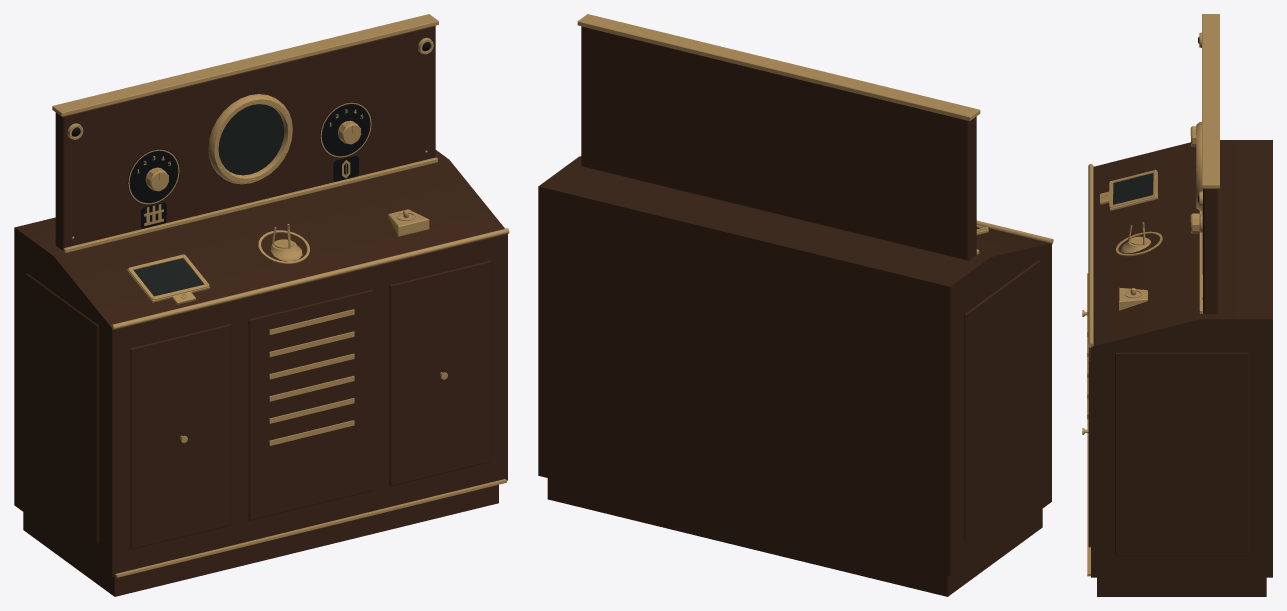
File: gallery_console.glb
3 renders of one model, left to right at view 1: azimuth 30°, elevation 25°; view 2: azimuth 150°, elevation 25°; view 3: azimuth 270°, elevation 25°, orthographic. The views are drawn at different scales.
Parts seen in each view (by area): view 1: gallery_console, scope_screen, IA_strand_plate, IA_cradle; view 2: gallery_console; view 3: gallery_console, IA_strand_plate, IA_cradle, cradle_ring.
Boxes of the visible parts, box(x1,y1,x2,y2) form: gallery_console: box(14, 14, 509, 596); scope_screen: box(218, 104, 284, 175); IA_strand_plate: box(127, 254, 209, 304); IA_cradle: box(270, 224, 302, 261); gallery_console: box(538, 14, 1053, 596); gallery_console: box(1082, 14, 1272, 596); IA_strand_plate: box(1099, 169, 1157, 210); IA_cradle: box(1120, 222, 1150, 253); cradle_ring: box(1116, 231, 1162, 256).
Size of the model in its own units: 1.42 by 1.49 by 0.629.
